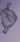microplastic: (1, 2, 19, 36)
